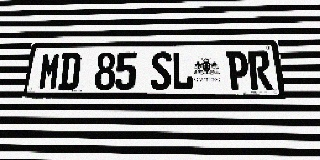5: (115, 52, 137, 90)
8: (94, 52, 117, 90)
D: (58, 52, 82, 90)
L: (172, 51, 193, 90)
M: (37, 53, 62, 90)
P: (226, 51, 250, 90)
R: (248, 51, 273, 90)
S: (151, 52, 171, 90)
